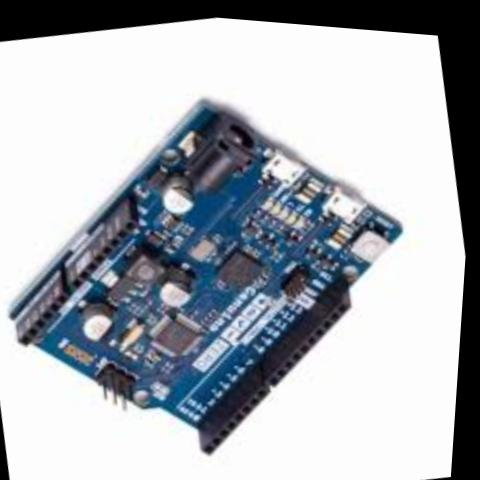Arduino-Zero: (0, 26, 479, 480)
